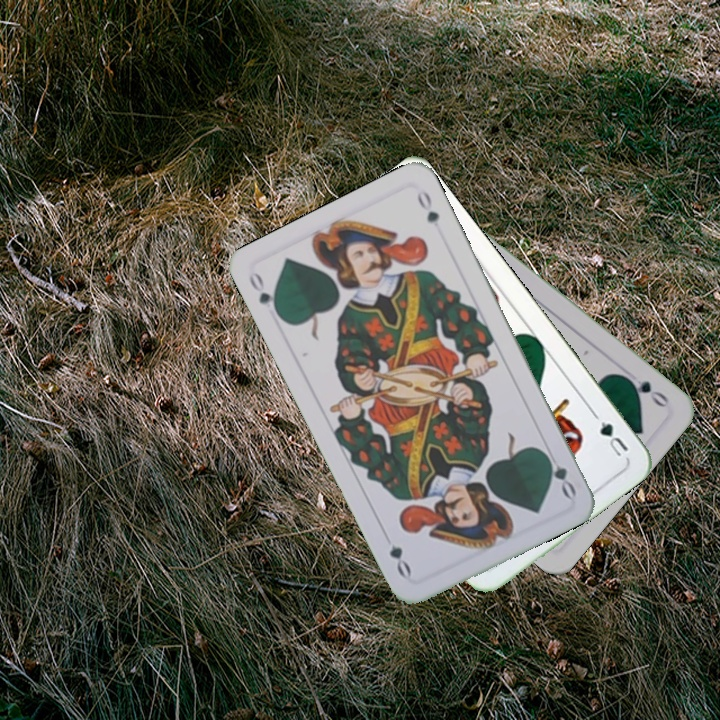GO: (538, 445, 579, 501), (244, 268, 285, 321), (619, 372, 672, 410)
GU: (595, 417, 631, 460)
